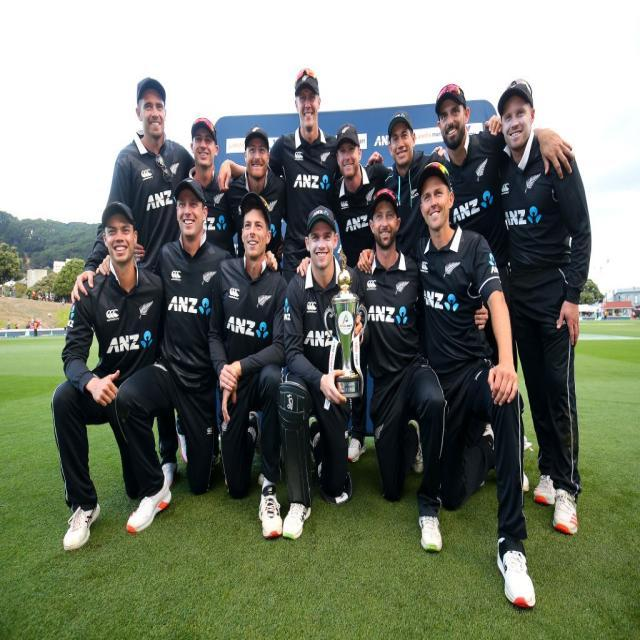hat: (499, 80, 535, 114), (98, 202, 136, 229), (435, 83, 465, 113), (242, 193, 273, 221), (306, 206, 336, 231), (292, 68, 320, 94), (333, 123, 361, 149), (190, 116, 218, 142), (133, 77, 164, 100), (175, 177, 202, 201), (244, 129, 271, 146)
